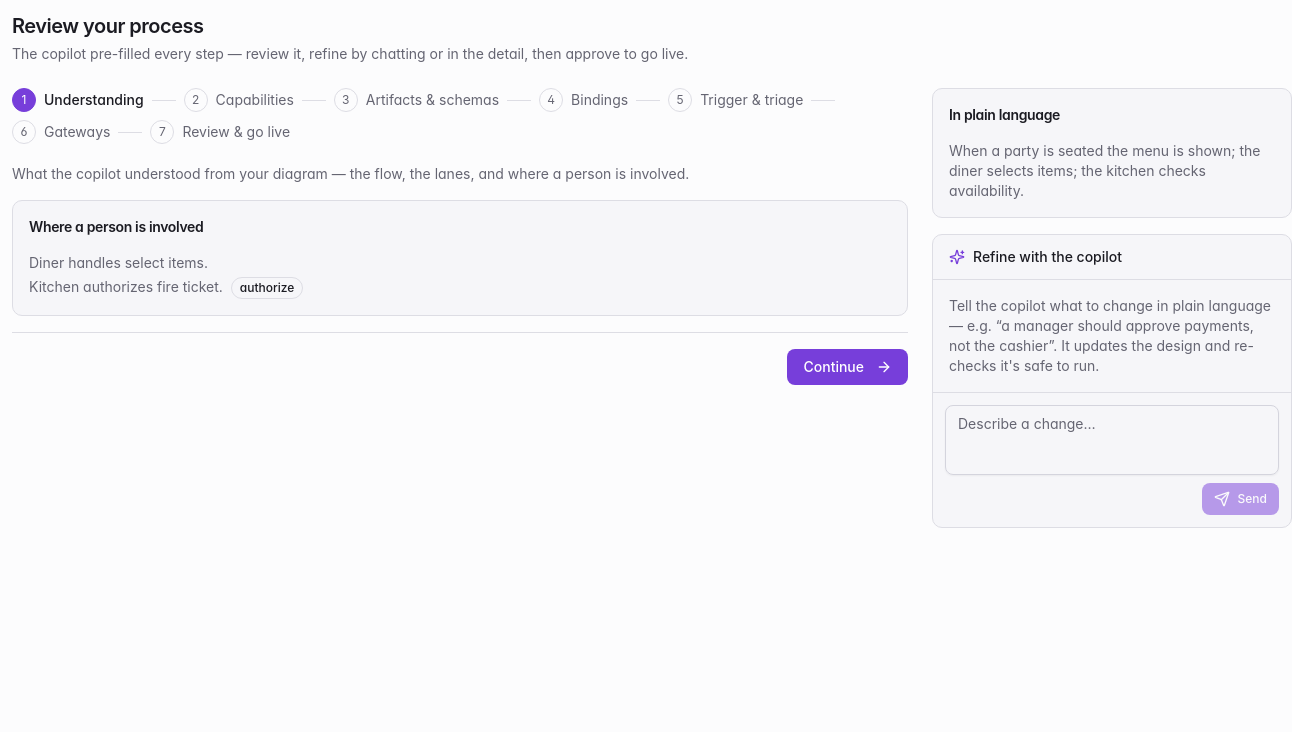
Test case: Copilot flow — Chat › sends a message, appends the turn, and shows a plain-language change
This screenshot has width=1292, height=732.
Expected: the text "When a party is seated" is shown, x1=949 y1=142 x2=1260 y2=199
Type "the manager should approve firing, not the kitchen" into the text box named "refine message" at {"x": 1112, "y": 440}, box x1=945 y1=405 x2=1279 y2=475
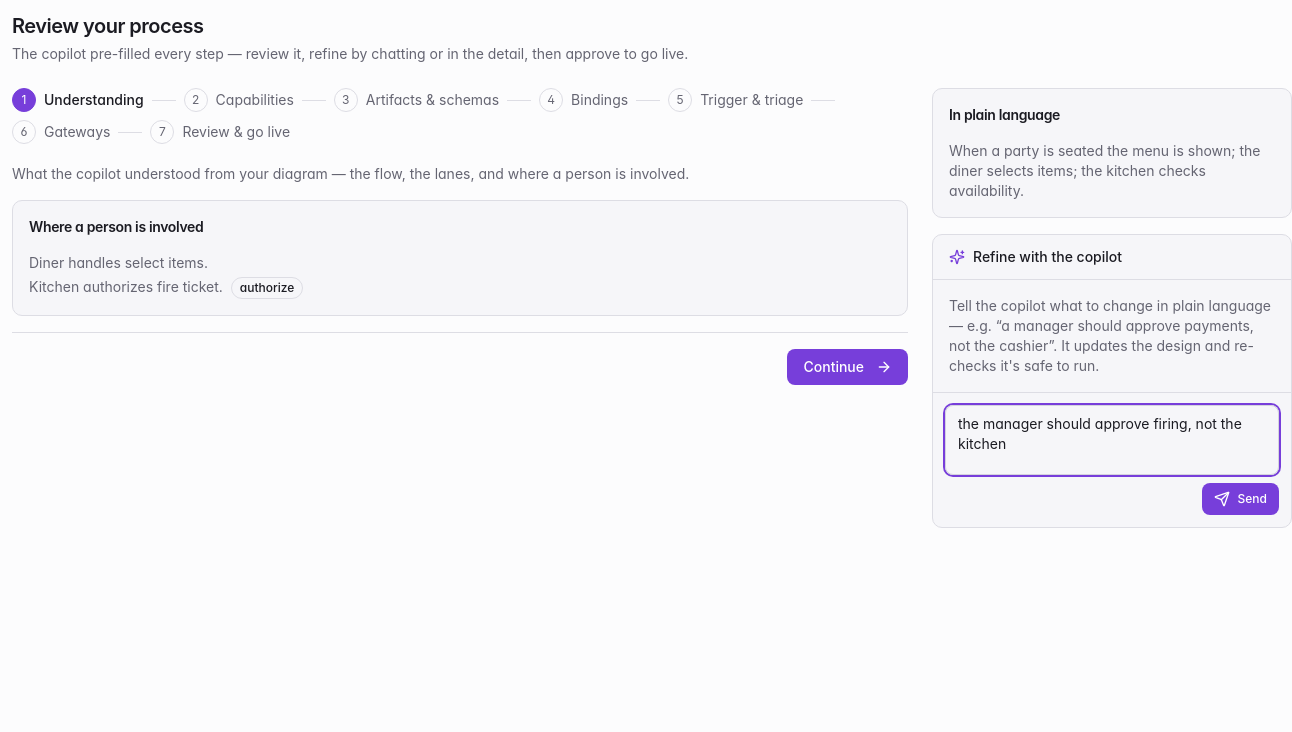
Click the button "Send" at {"x": 1240, "y": 499}, box x1=1202 y1=483 x2=1279 y2=515
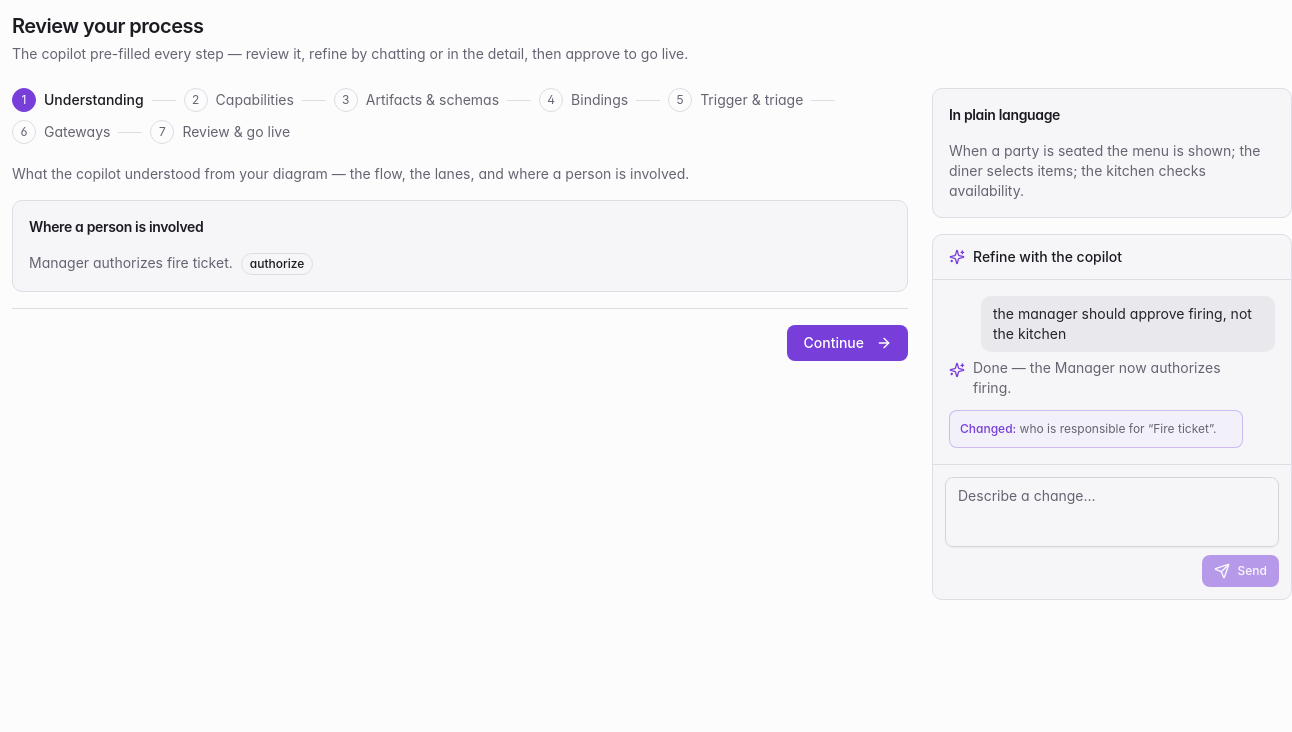
Now the text "Done — the Manager now authorizes firing." is shown, box x1=973 y1=358 x2=1243 y2=398
Now the text "who is responsible for “Fire ticket”." is shown, box x1=1020 y1=421 x2=1216 y2=436
Now the text "Manager authorizes fire ticket. authorize" is shown, box x1=29 y1=253 x2=313 y2=275
